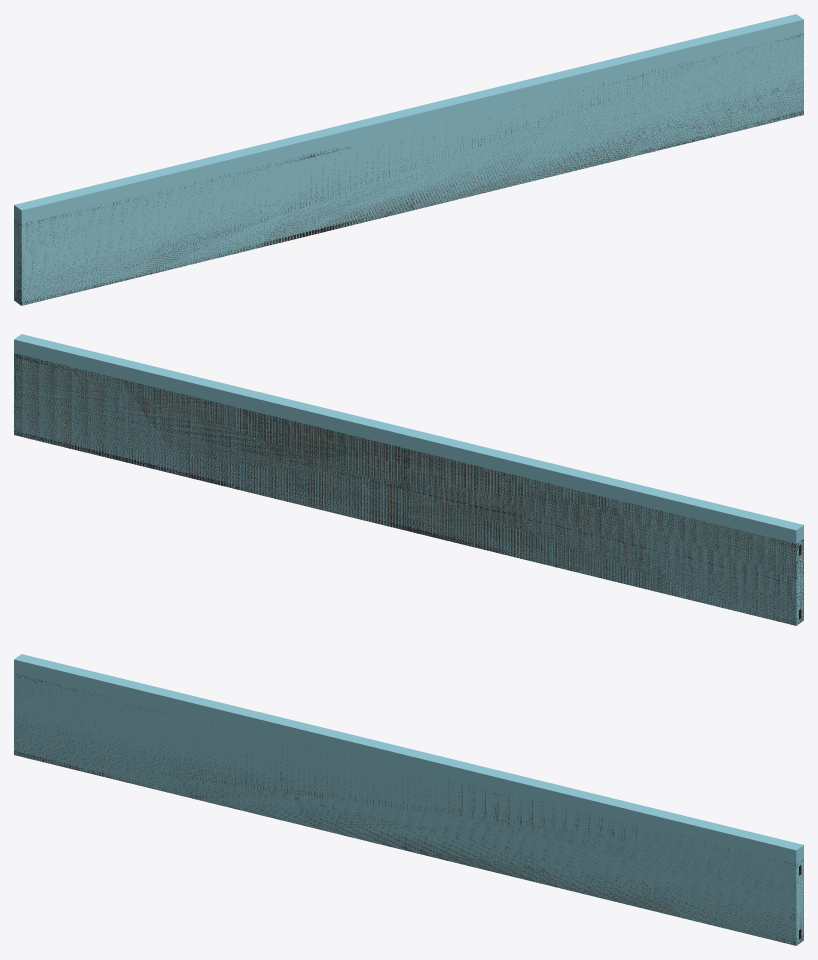
The model's file is support_beam_ceiling.DAE.
3 renders of one model, top to bottom at view 1: azimuth 30°, elevation 25°; view 2: azimuth 150°, elevation 25°; view 3: azimuth 330°, elevation 25°, orthographic.
Parts seen in each view (by area): view 1: bounds, colbox-01, ceiling_support_beam; view 2: bounds, colbox-01, ceiling_support_beam; view 3: bounds, colbox-01.
Part boxes in pixels (x1=…): bounds: x1=14, y1=14, x2=803, y2=305; colbox-01: x1=14, y1=43, x2=803, y2=305; ceiling_support_beam: x1=14, y1=34, x2=803, y2=305; bounds: x1=14, y1=334, x2=803, y2=625; colbox-01: x1=14, y1=353, x2=803, y2=625; ceiling_support_beam: x1=14, y1=354, x2=803, y2=625; bounds: x1=14, y1=654, x2=803, y2=945; colbox-01: x1=14, y1=680, x2=803, y2=945.
Bounding box in the file's own units: 720 × 12 × 84.
